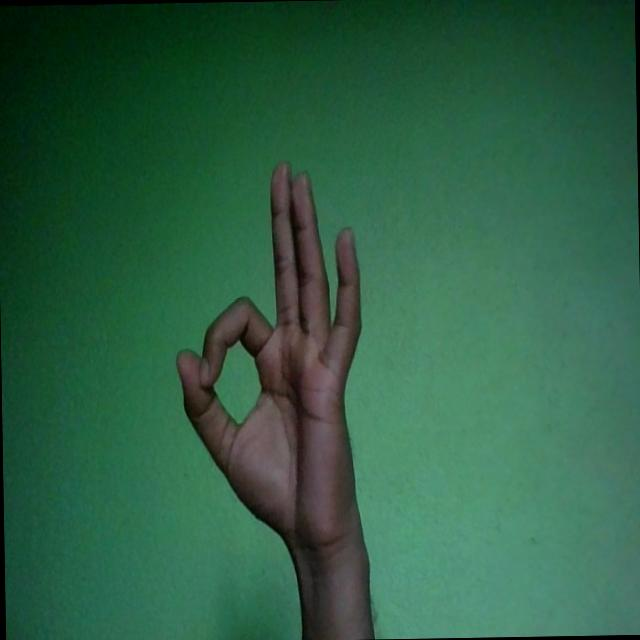Rock On: (172, 158, 366, 556)
